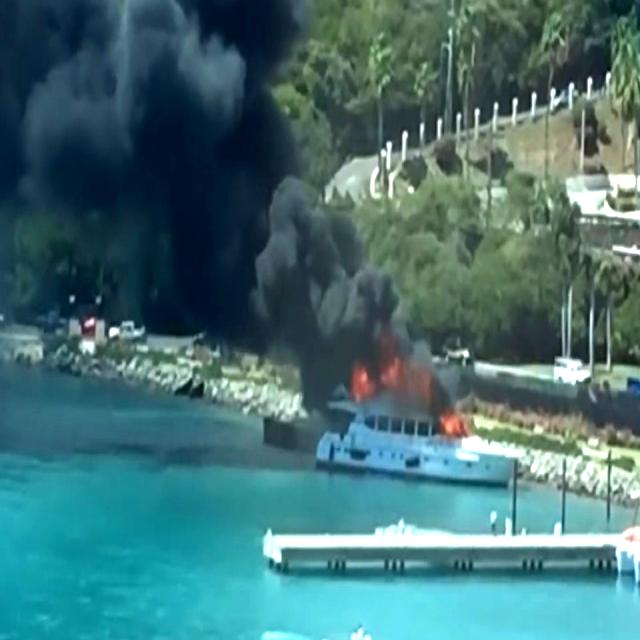smoke: (6, 0, 280, 296), (267, 202, 382, 385)
